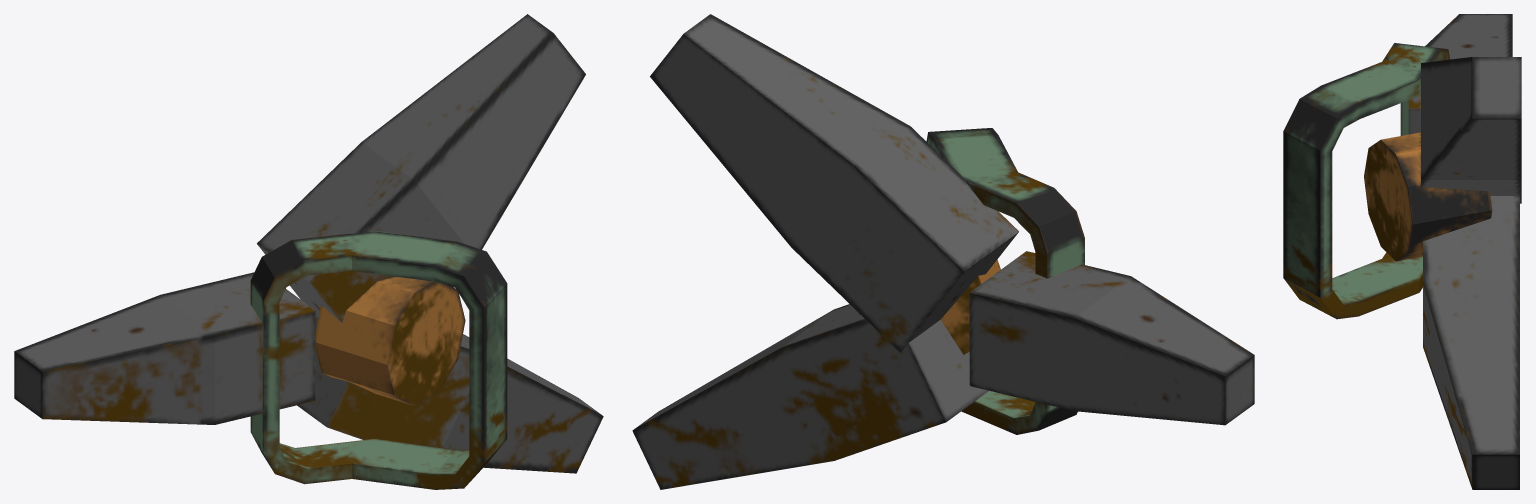
File: SM_Mech_FootL.obj
The picture shows the model from 3 angles, left to right: view 1: azimuth 30°, elevation 25°; view 2: azimuth 150°, elevation 25°; view 3: azimuth 270°, elevation 25°; orthographic projection. The views are drawn at different scales.
Visible parts, largest first — view 1: SM_Mech_FootL; view 2: SM_Mech_FootL; view 3: SM_Mech_FootL.
Part boxes in pixels (<box>): SM_Mech_FootL: <box>14,14,603,489</box>; SM_Mech_FootL: <box>632,14,1254,489</box>; SM_Mech_FootL: <box>1283,14,1521,489</box>.
Size of the model in its own units: 142 by 107 by 54.48.
Materials: 1 (1 with a texture image).
